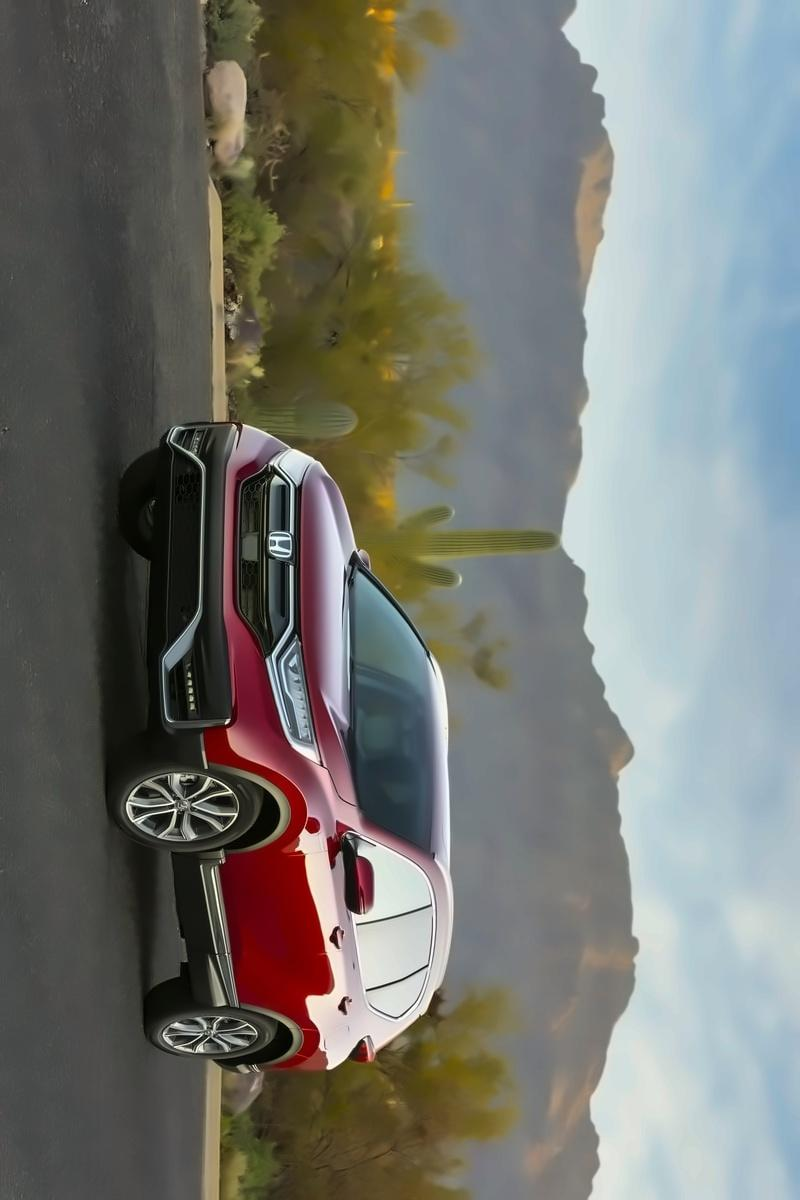Car hood: (296, 450, 355, 809)
Fender - -F-L-: (185, 752, 362, 881)
Fender - -R-L-: (244, 1004, 389, 1076)
Front bumper: (148, 412, 293, 793)
Headlight - -L-: (266, 624, 323, 761)
Headlight - -R-: (260, 440, 316, 489)
Passenger-s door - -F-L-: (162, 808, 453, 958)
Passenger-s door - -R-L-: (184, 907, 490, 1040)
Side bumper - -L-: (166, 850, 263, 1014)
Side mirror - -L-: (330, 830, 384, 921)
